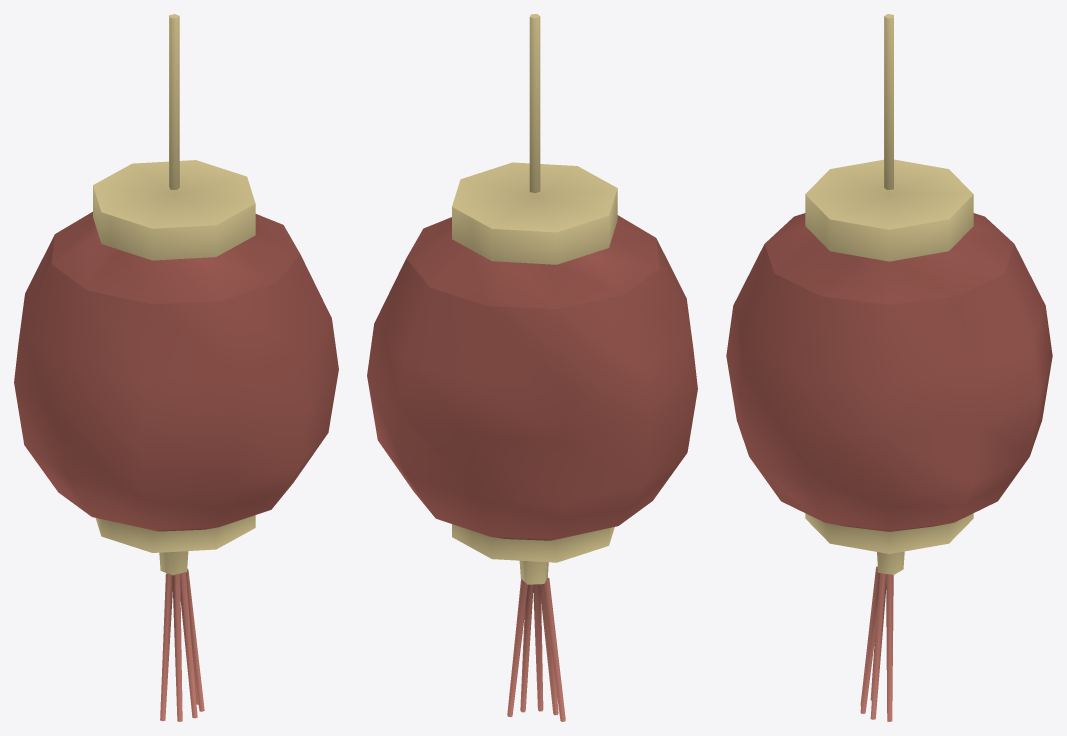
The model's file is lantern.glb.
3 views of the same model, side by side, from view 1: azimuth 30°, elevation 25°; view 2: azimuth 150°, elevation 25°; view 3: azimuth 270°, elevation 25° (orthographic).
Parts seen in each view (by area): view 1: fx_lantern_m0; view 2: fx_lantern_m0; view 3: fx_lantern_m0.
Part boxes in pixels (x1,y1,x2,y2): fx_lantern_m0: (14, 14, 338, 721); fx_lantern_m0: (367, 14, 697, 721); fx_lantern_m0: (726, 14, 1052, 721).
Size of the model in its own units: 0.4605 by 1.09 by 0.4652.
